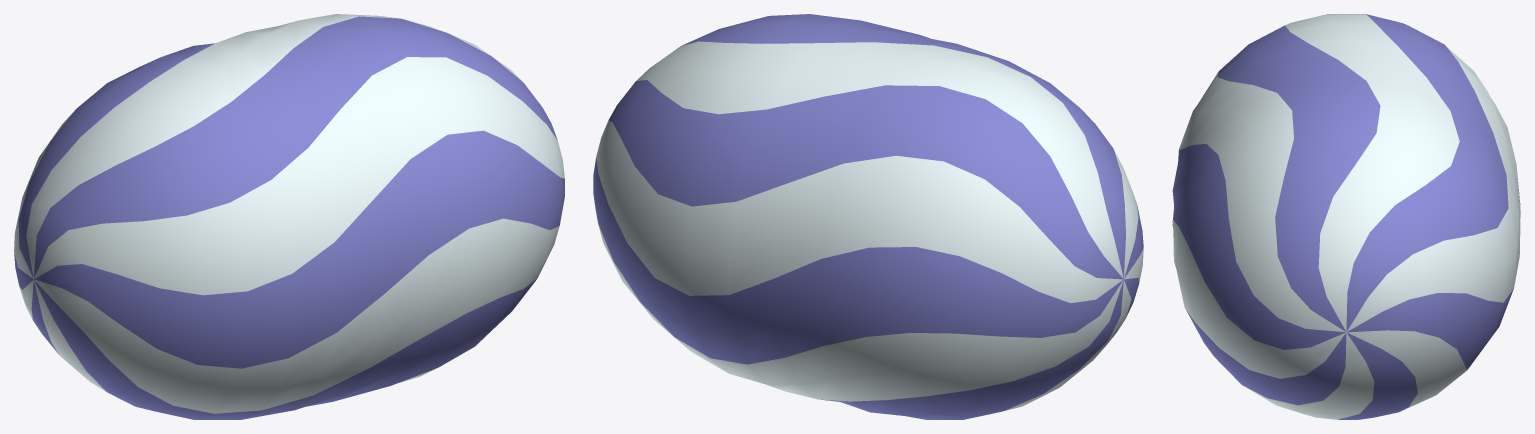
File: Candy_B_02.fbx
The picture shows the model from 3 angles, left to right: view 1: azimuth 30°, elevation 25°; view 2: azimuth 150°, elevation 25°; view 3: azimuth 270°, elevation 25°; orthographic projection. The views are drawn at different scales.
Visible parts, largest first — view 1: Candy_B_02_LOD0; view 2: Candy_B_02_LOD0; view 3: Candy_B_02_LOD0.
Part boxes in pixels (left/top/right/bottom): Candy_B_02_LOD0: left=14, top=14, right=564, bottom=419; Candy_B_02_LOD0: left=593, top=14, right=1143, bottom=419; Candy_B_02_LOD0: left=1172, top=14, right=1520, bottom=419.
Size of what is drawn, in the model's own units: 441 by 284 by 284.
